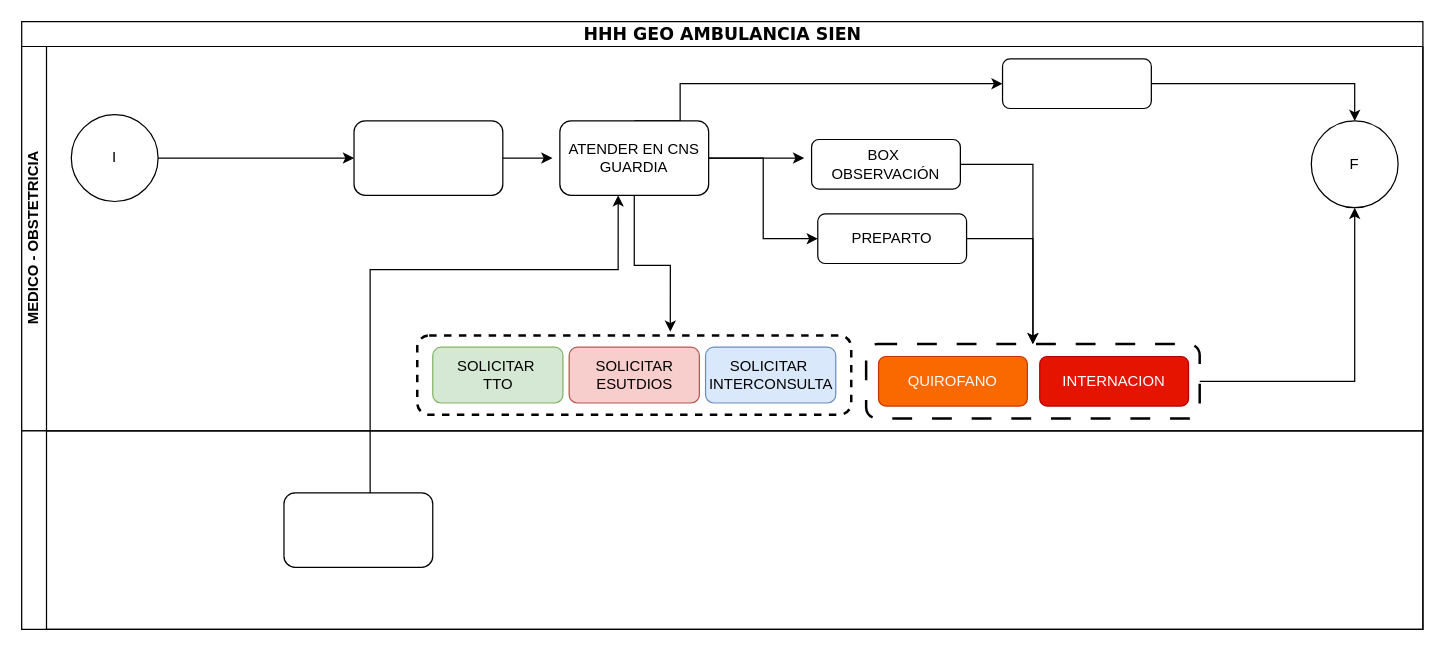
Image size: 1445x651. Some labels were removed from this diagram. The box of each missing label's shape, as (x1, y1, x2, y2) in pixels:
ALTA: (1001, 58, 1151, 108)
GESTION DE PACIENTES: (20, 430, 1423, 629)
RECEPCIONAR PACIENTES: (283, 492, 433, 567)
RECIBIR AMBULANCIA SIEN: (353, 120, 503, 195)
